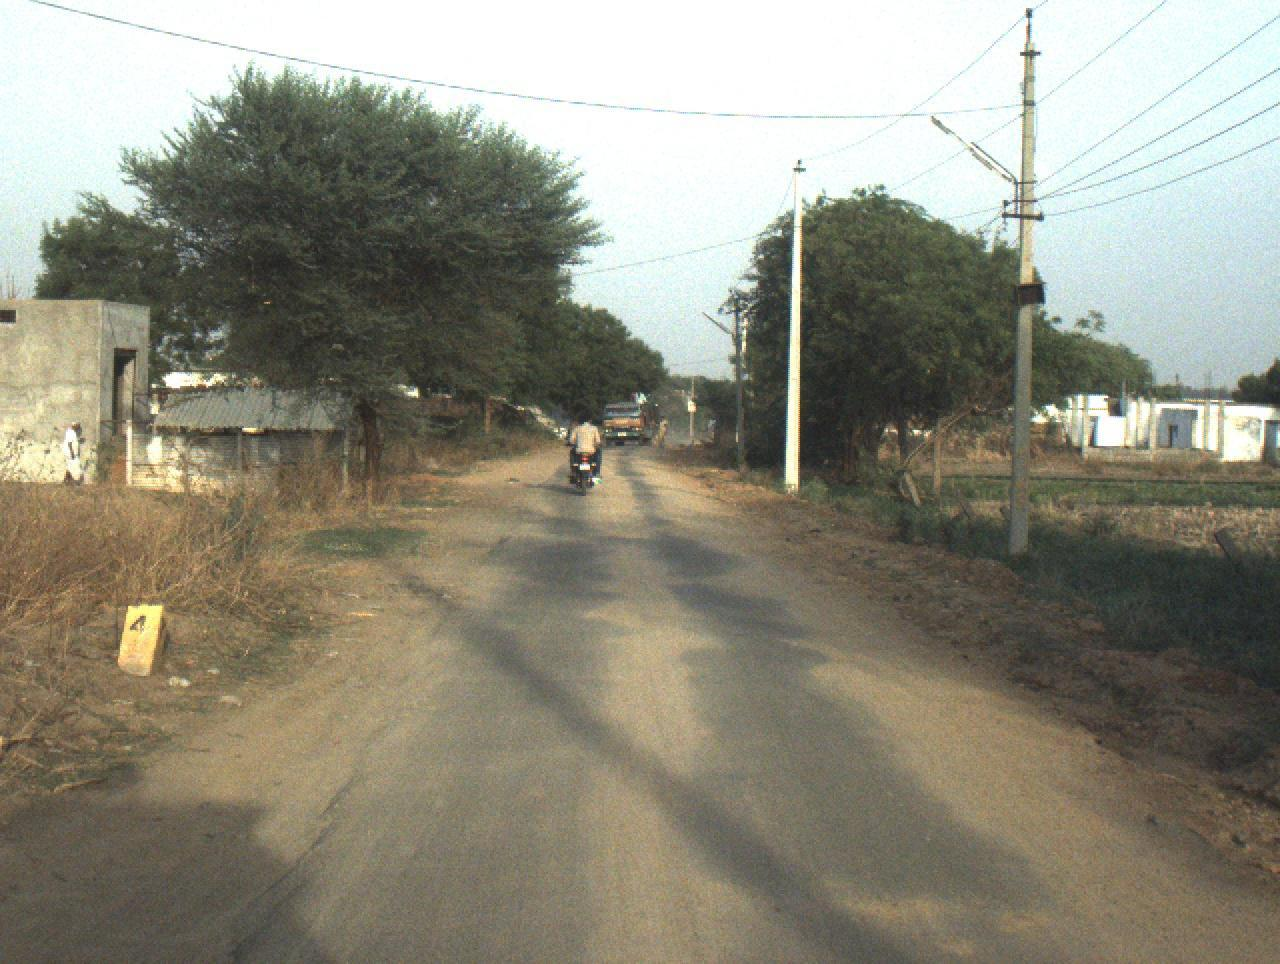off: (0, 56, 1280, 964)
